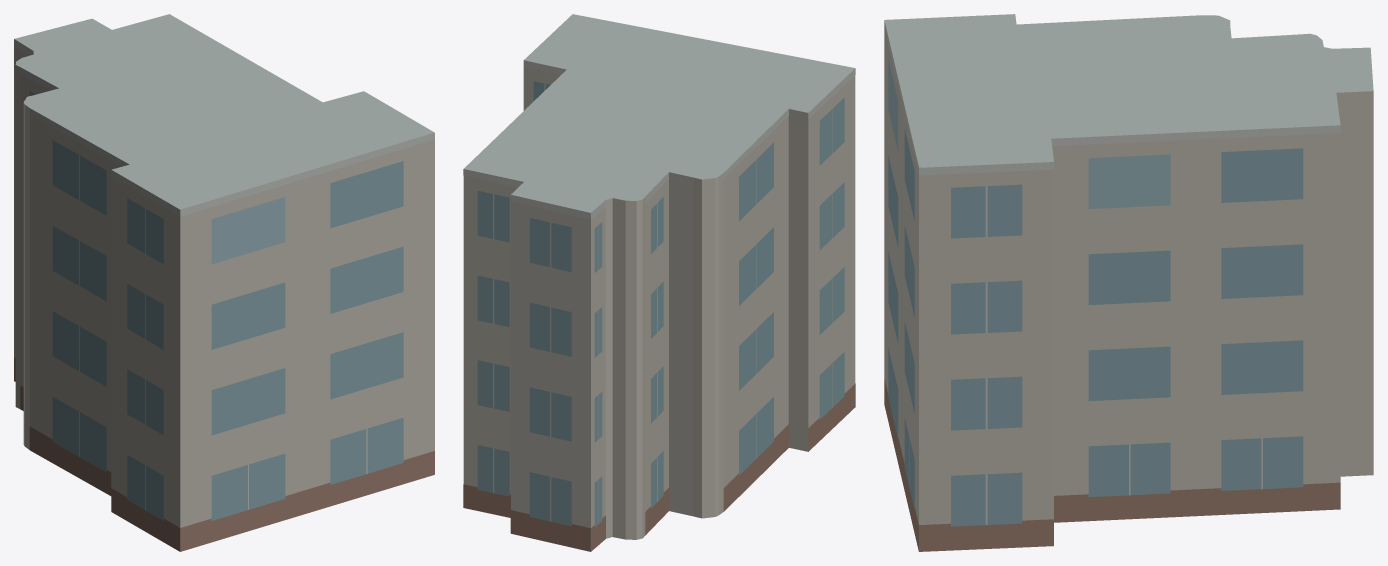
Rendered from survey-upis-32673030.glb.
3 views of the same model, side by side, from view 1: azimuth 30°, elevation 25°; view 2: azimuth 150°, elevation 25°; view 3: azimuth 270°, elevation 25° (orthographic). The views are drawn at different scales.
Parts seen in each view (by area): view 1: survey-upis-32673030.tmp; view 2: survey-upis-32673030.tmp; view 3: survey-upis-32673030.tmp.
Part boxes in pixels (<box>): survey-upis-32673030.tmp: <box>14,14,434,551</box>; survey-upis-32673030.tmp: <box>463,14,855,551</box>; survey-upis-32673030.tmp: <box>884,14,1373,551</box>.
Bounding box in the file's own units: 10.49 × 12.2 × 14.1.
